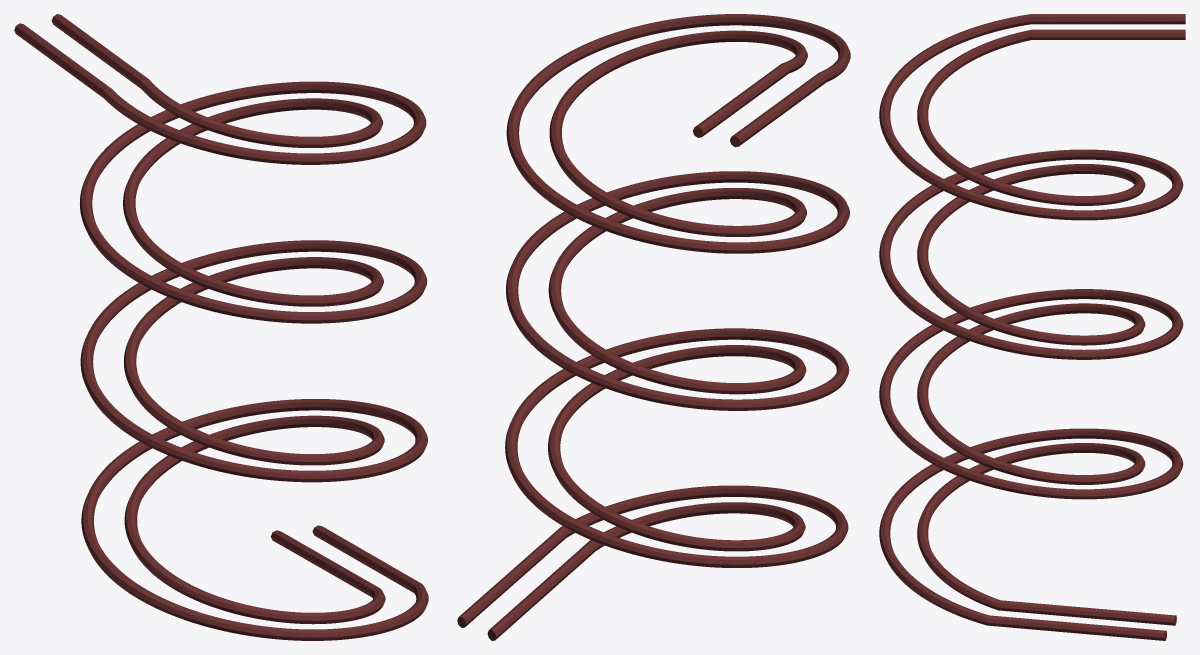
File: grass_spiral.fbx
3 renders of one model, left to right at view 1: azimuth 30°, elevation 25°; view 2: azimuth 150°, elevation 25°; view 3: azimuth 270°, elevation 25°, orthographic. The views are drawn at different scales.
Parts seen in each view (by area): view 1: pHelix3; view 2: pHelix3; view 3: pHelix3.
Boxes of the visible parts, bbox=[...] form: pHelix3: bbox=[14, 14, 428, 640]; pHelix3: bbox=[457, 14, 850, 640]; pHelix3: bbox=[879, 14, 1185, 640].
Bounding box in the file's own units: 7.22 × 13.13 × 7.23.
